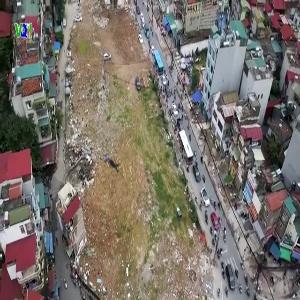drone: (64, 113, 160, 209)
